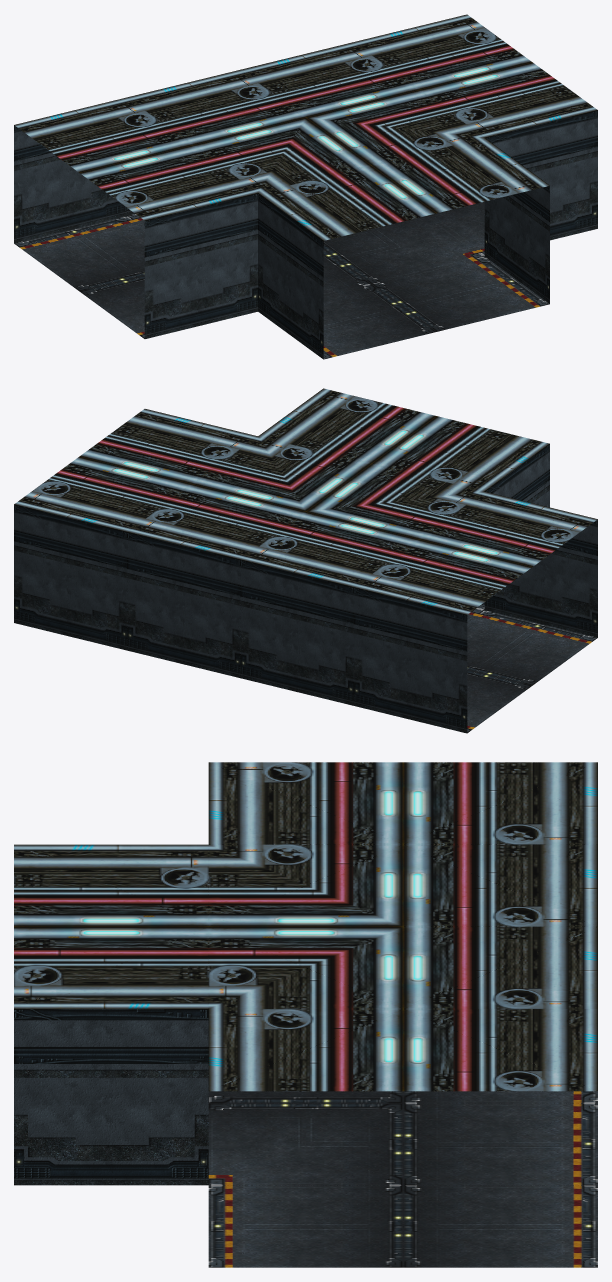
Rendered from pbatun06.FBX.
3 views of the same model, one above another, from view 1: azimuth 30°, elevation 25°; view 2: azimuth 150°, elevation 25°; view 3: azimuth 270°, elevation 25° (orthographic). The views are drawn at different scales.
Visible parts, largest first — view 1: pbatun06; view 2: pbatun06; view 3: pbatun06.
Part boxes in pixels (box(x1,y1,x2,y2)): pbatun06: box(14, 14, 597, 359); pbatun06: box(14, 388, 597, 733); pbatun06: box(14, 762, 597, 1267).
Size of what is drawn, in the model's own units: 32 by 24 by 8.
